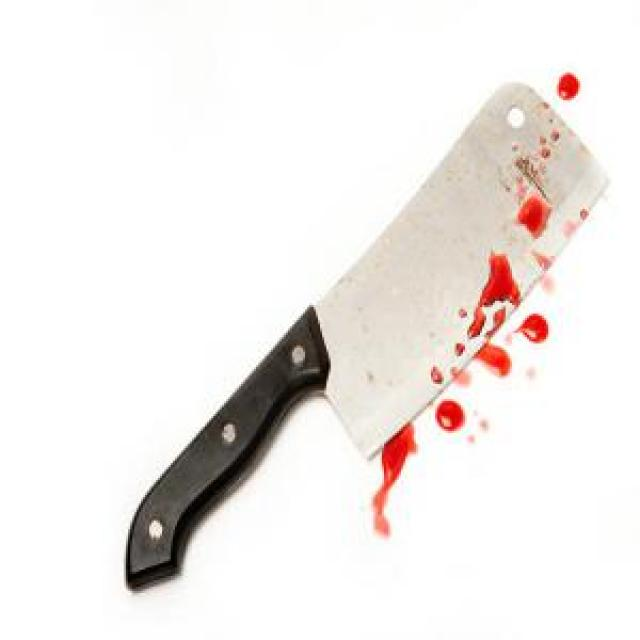knife: (126, 73, 615, 594)
